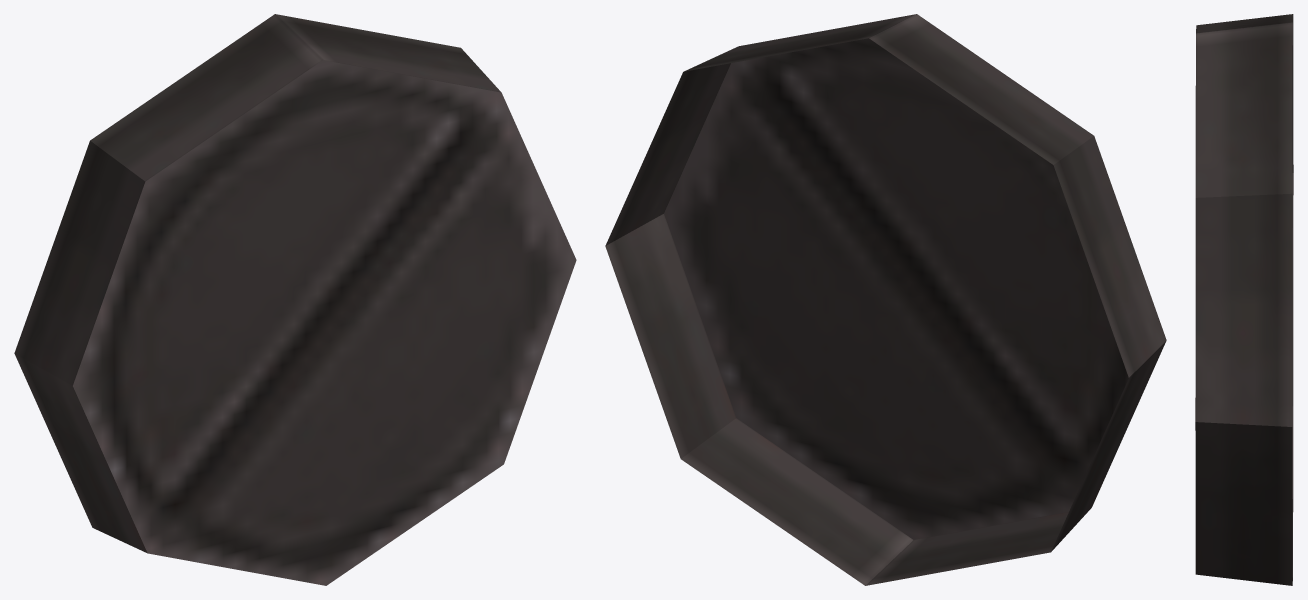
The model's file is sn_jixie_chilun_003.FBX.
3 renders of one model, left to right at view 1: azimuth 30°, elevation 25°; view 2: azimuth 150°, elevation 25°; view 3: azimuth 270°, elevation 25°, orthographic.
Parts seen in each view (by area): view 1: sn_jixie_chilun_002; view 2: sn_jixie_chilun_002; view 3: sn_jixie_chilun_002.
Boxes of the visible parts, x1,y1,x2,y2 form: sn_jixie_chilun_002: (14, 14, 576, 585); sn_jixie_chilun_002: (605, 14, 1166, 585); sn_jixie_chilun_002: (1195, 14, 1293, 585).
Size of the model in its own units: 1.02 by 0.1637 by 1.02.
